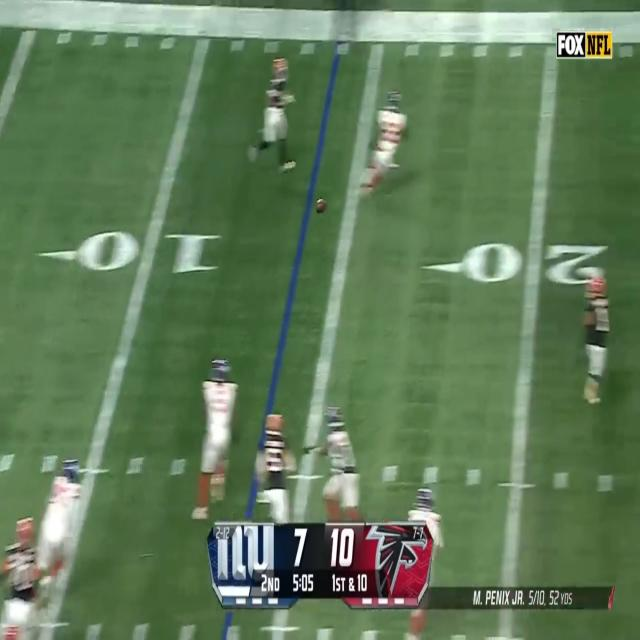Ball: (315, 197, 328, 216)
